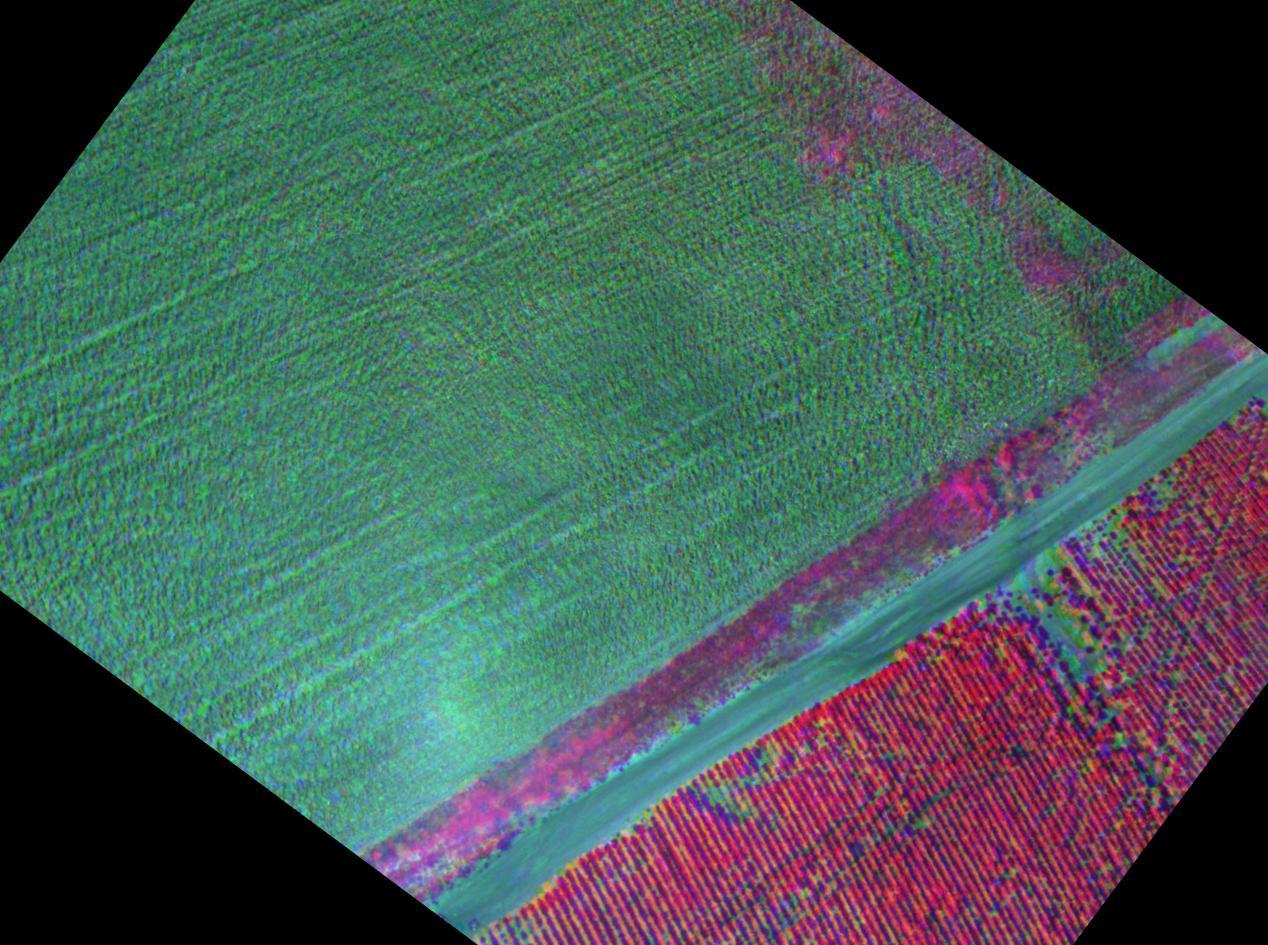dc: (1073, 631, 1078, 638), (1110, 521, 1115, 526), (1049, 556, 1054, 561), (1086, 661, 1091, 665), (713, 791, 717, 796), (1019, 580, 1023, 584), (1118, 735, 1122, 739)
